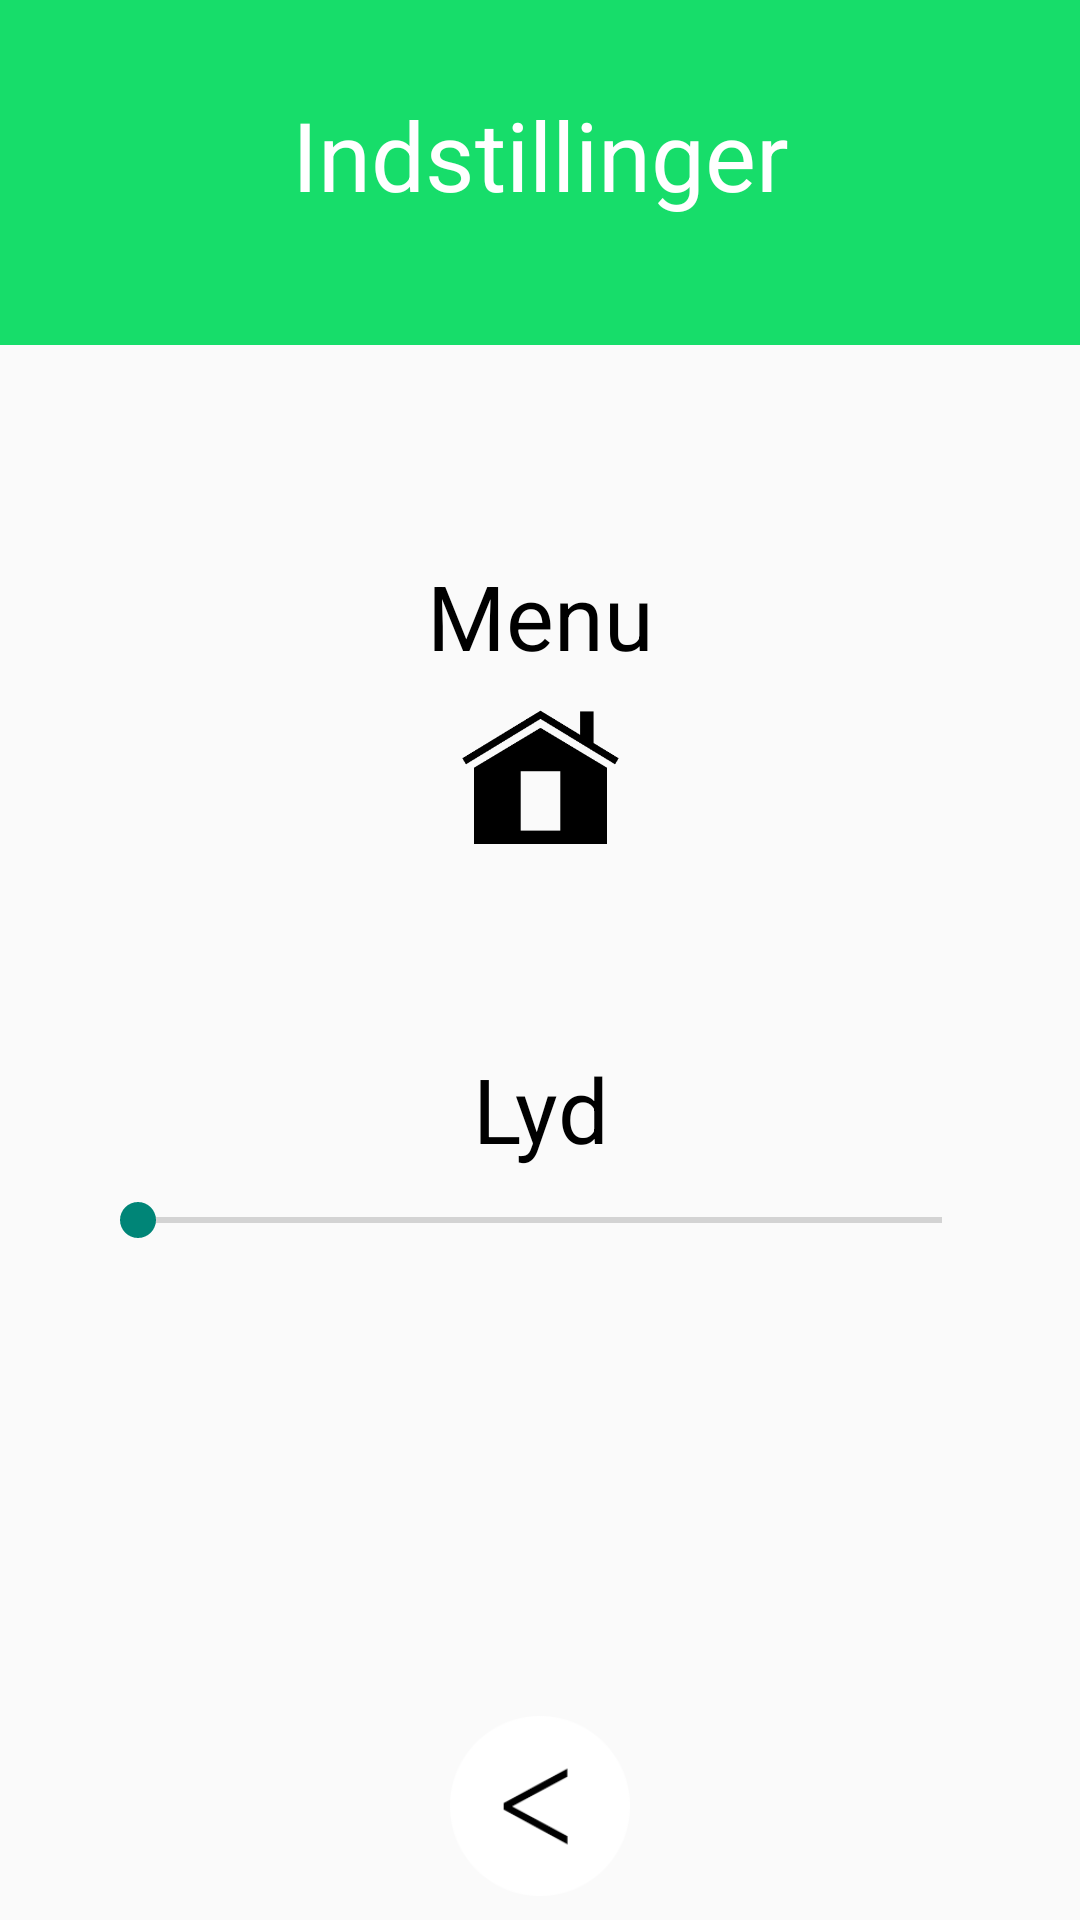

Screen size 1080w x 1920h. Icon name, then its center in pixels as point (x, y):
home: point (540, 777)
returnbutton: point (535, 1806)
